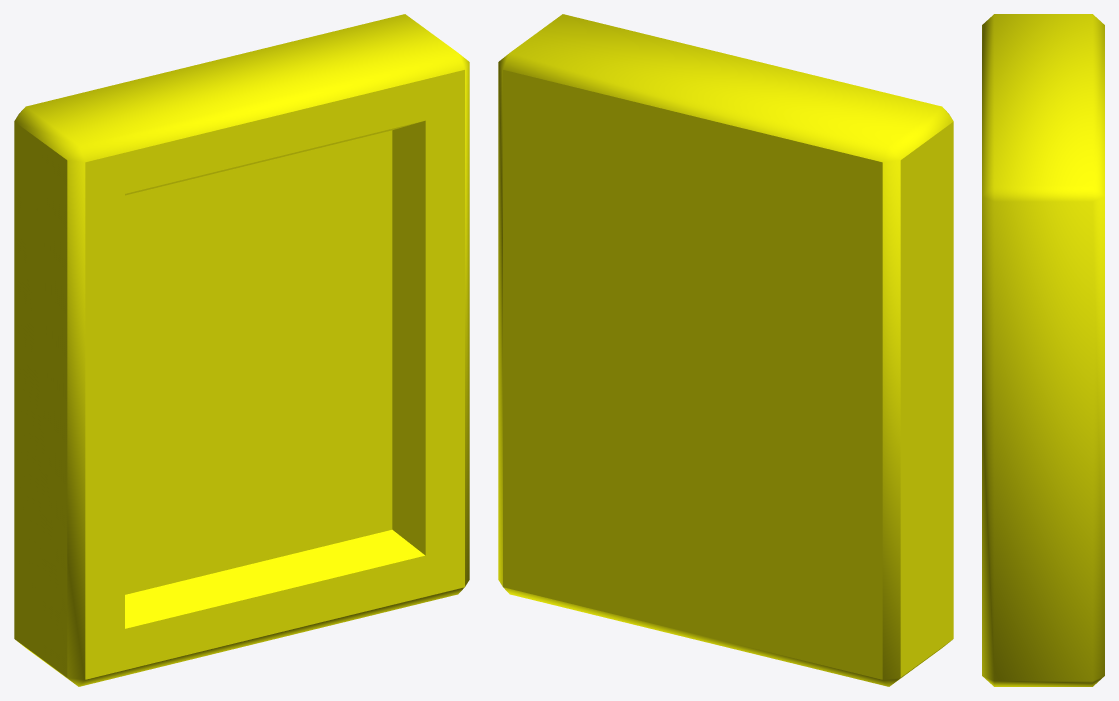
Rendered from kaykit-pictureframe-medium.glb.
3 views of the same model, side by side, from view 1: azimuth 30°, elevation 25°; view 2: azimuth 150°, elevation 25°; view 3: azimuth 270°, elevation 25° (orthographic). The views are drawn at different scales.
Visible parts, largest first — view 1: pictureframe_medium; view 2: pictureframe_medium; view 3: pictureframe_medium.
Part boxes in pixels (box(x1,y1,x2,y2)): pictureframe_medium: box(14, 14, 469, 686); pictureframe_medium: box(498, 14, 953, 686); pictureframe_medium: box(982, 14, 1104, 686).
Bounding box in the file's own units: 0.7 × 0.9 × 0.2.
